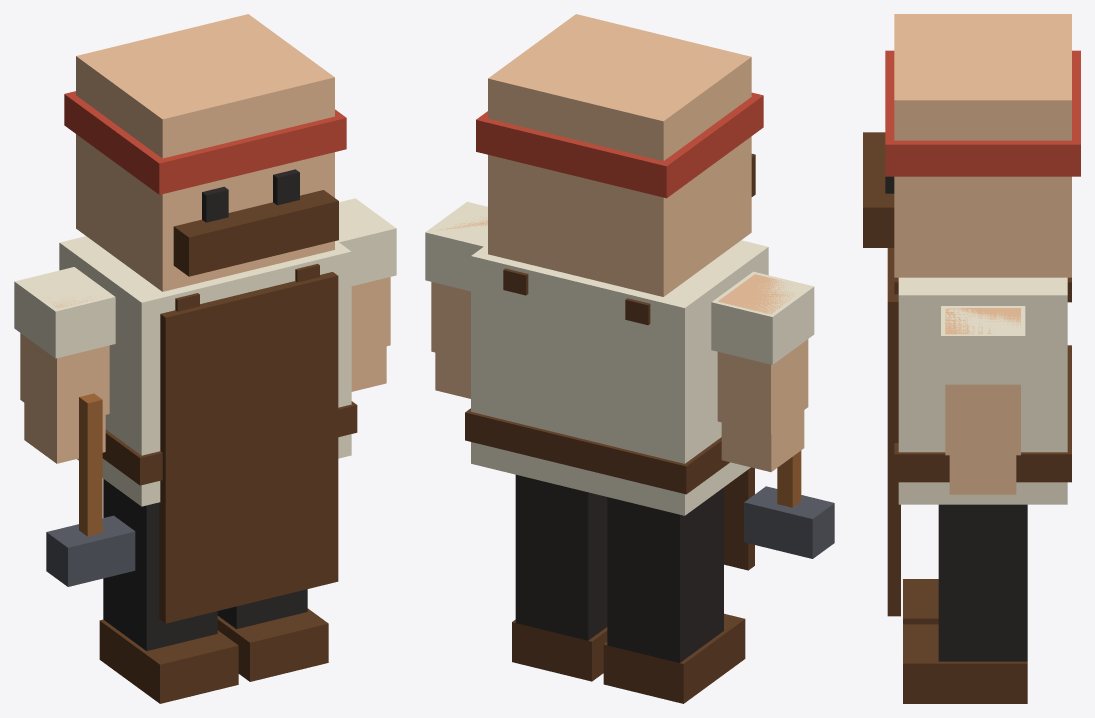
The model's file is H_MedBlacksmith.fbx.
The picture shows the model from 3 angles, left to right: view 1: azimuth 30°, elevation 25°; view 2: azimuth 150°, elevation 25°; view 3: azimuth 270°, elevation 25°; orthographic projection. The views are drawn at different scales.
Visible parts, largest first — view 1: M_Blacksmith; view 2: M_Blacksmith; view 3: M_Blacksmith.
Part boxes in pixels (left/top/right/bottom): M_Blacksmith: left=14, top=14, right=396, bottom=703; M_Blacksmith: left=425, top=14, right=834, bottom=703; M_Blacksmith: left=863, top=14, right=1080, bottom=703.
Bounding box in the file's own units: 0.92 × 1.5 × 0.49.
1 material, 1 textured.
